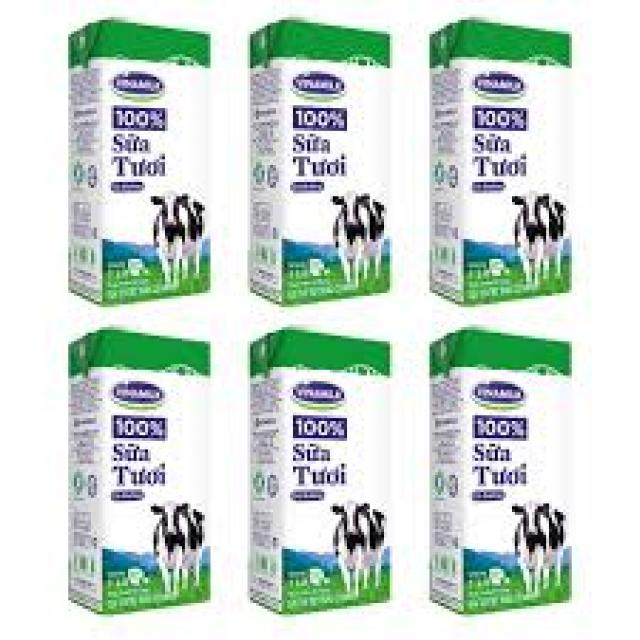non_white_jug: (42, 3, 224, 304), (417, 332, 596, 612), (233, 326, 407, 613), (242, 3, 401, 310), (422, 6, 576, 316), (60, 324, 219, 600)
